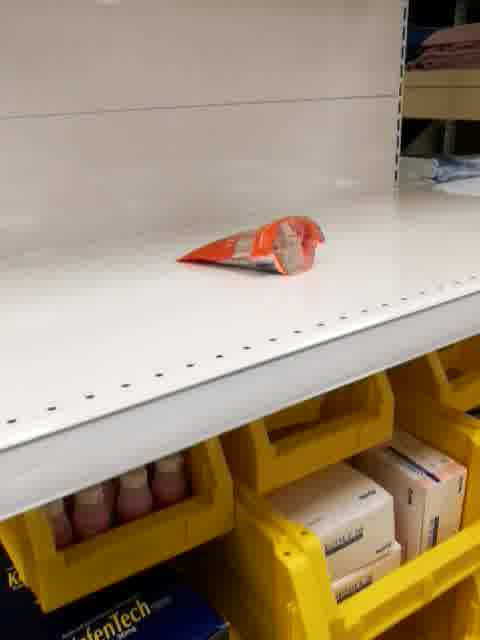whitechia: (173, 213, 327, 277)
